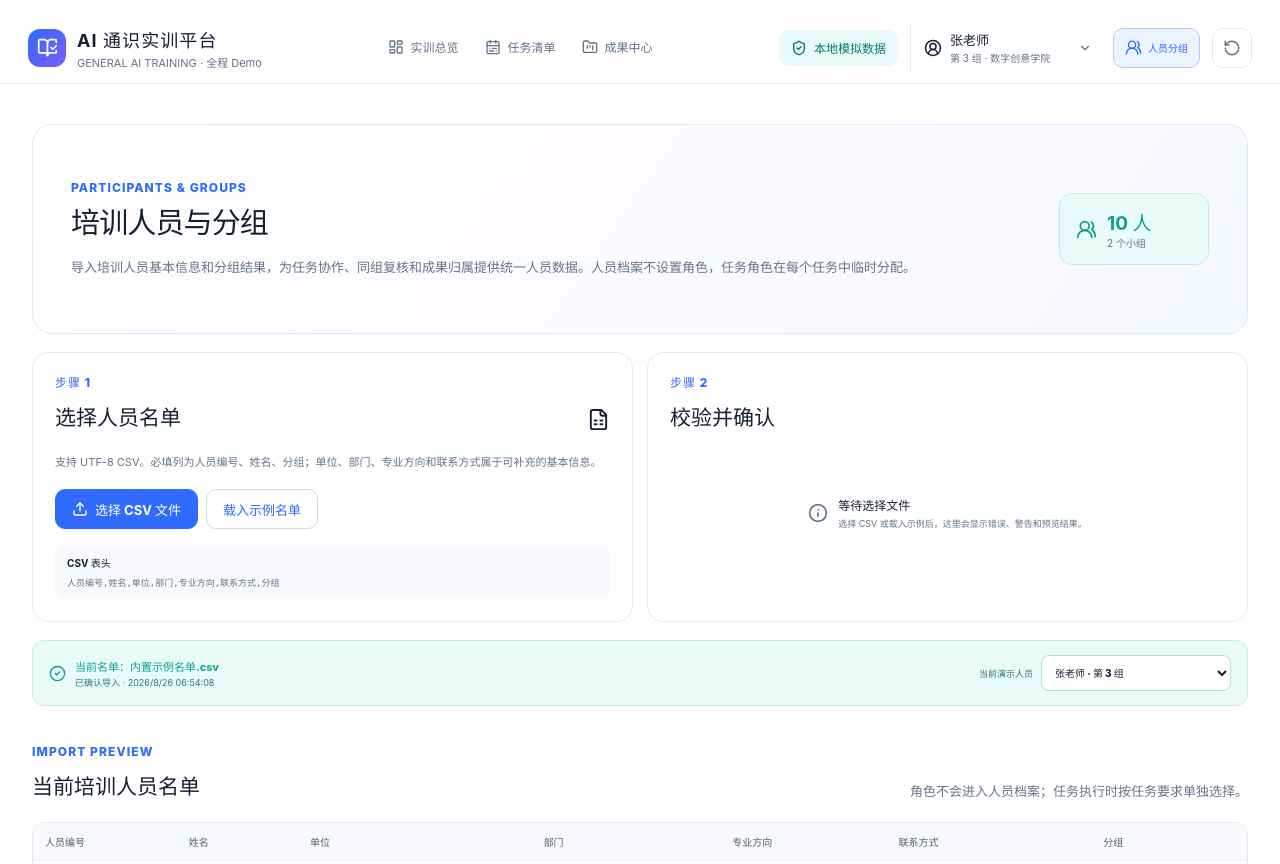
it: AI 通识实训平台 Demo 关键交互 › 切换当前人员后旧复核提交失效并要求重新选择对象
The width and height of the screenshot is (1280, 864).
Select "周老师 · 第 4 组" in the dropdown labelled "当前演示人员" at (1136, 674), box [1041,656,1231,692]
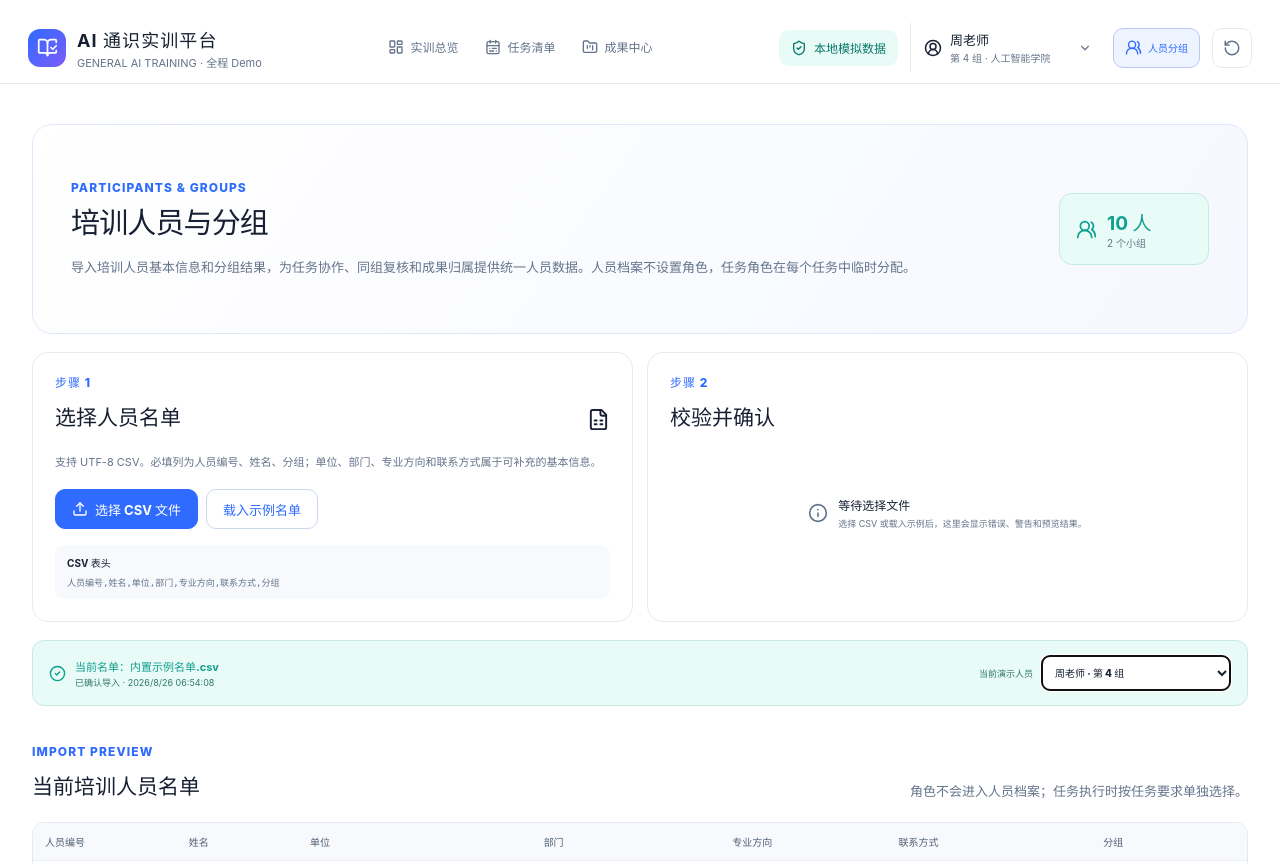
Click the button "任务清单" at (520, 48), box [473,12,567,83]
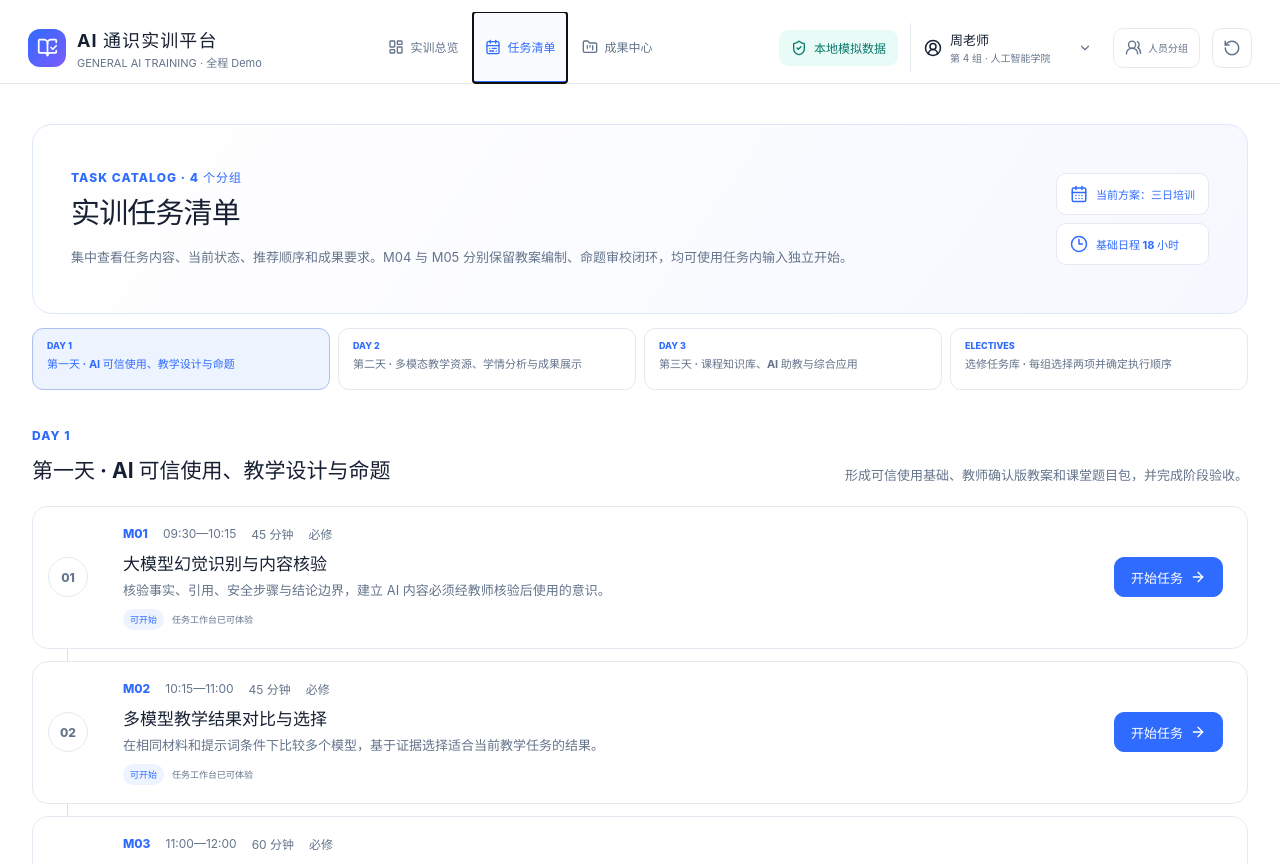
Click the button "DAY 1 第一天 · AI 可信使用、教学设计与命题" at (181, 359), box [32,328,330,390]
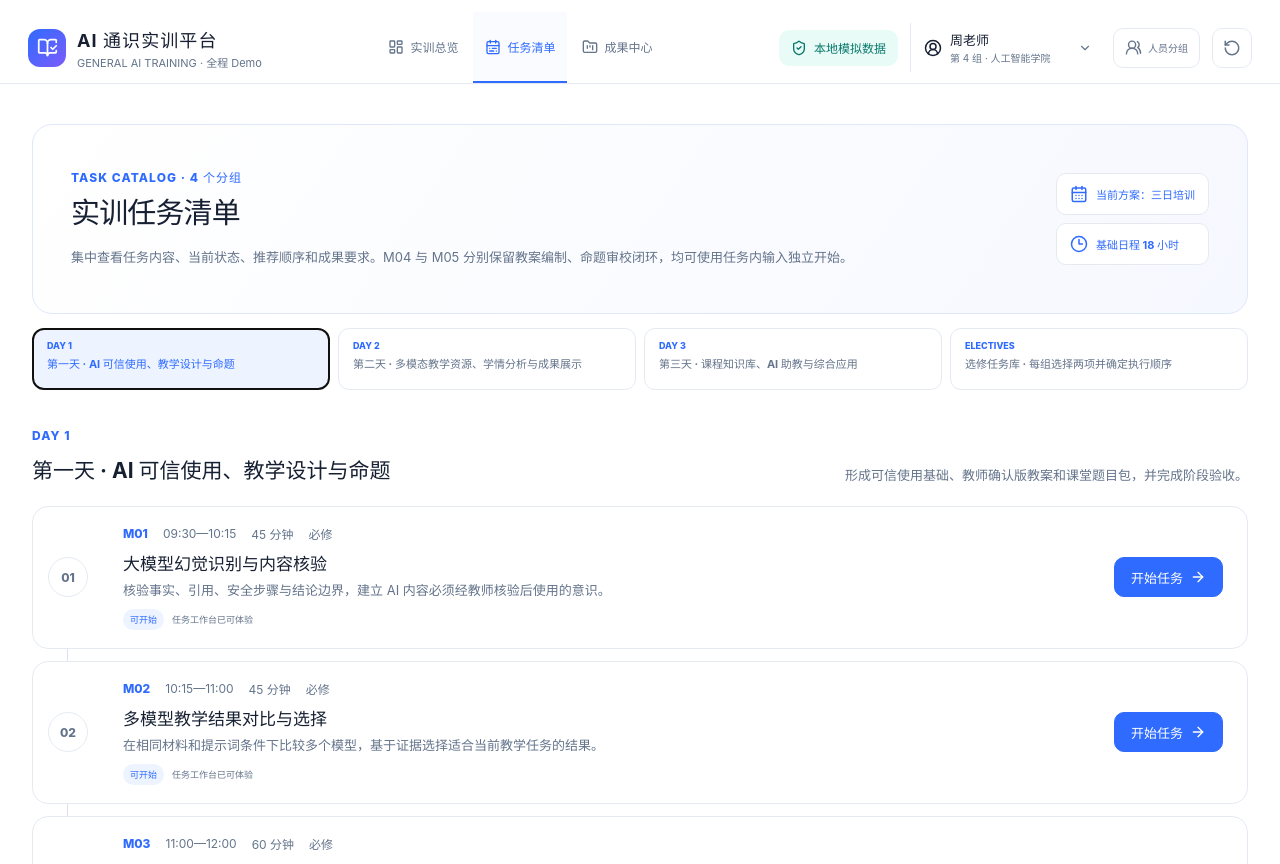
Expected: the text "M01" is shown, [123,526,148,541]
Click the button "开始任务" in the row of "核验事实、引用、安全步骤与结论边界，建立 AI 内容必须经教师核验后使用的意识。" at (1168, 577), box [1114,557,1223,597]
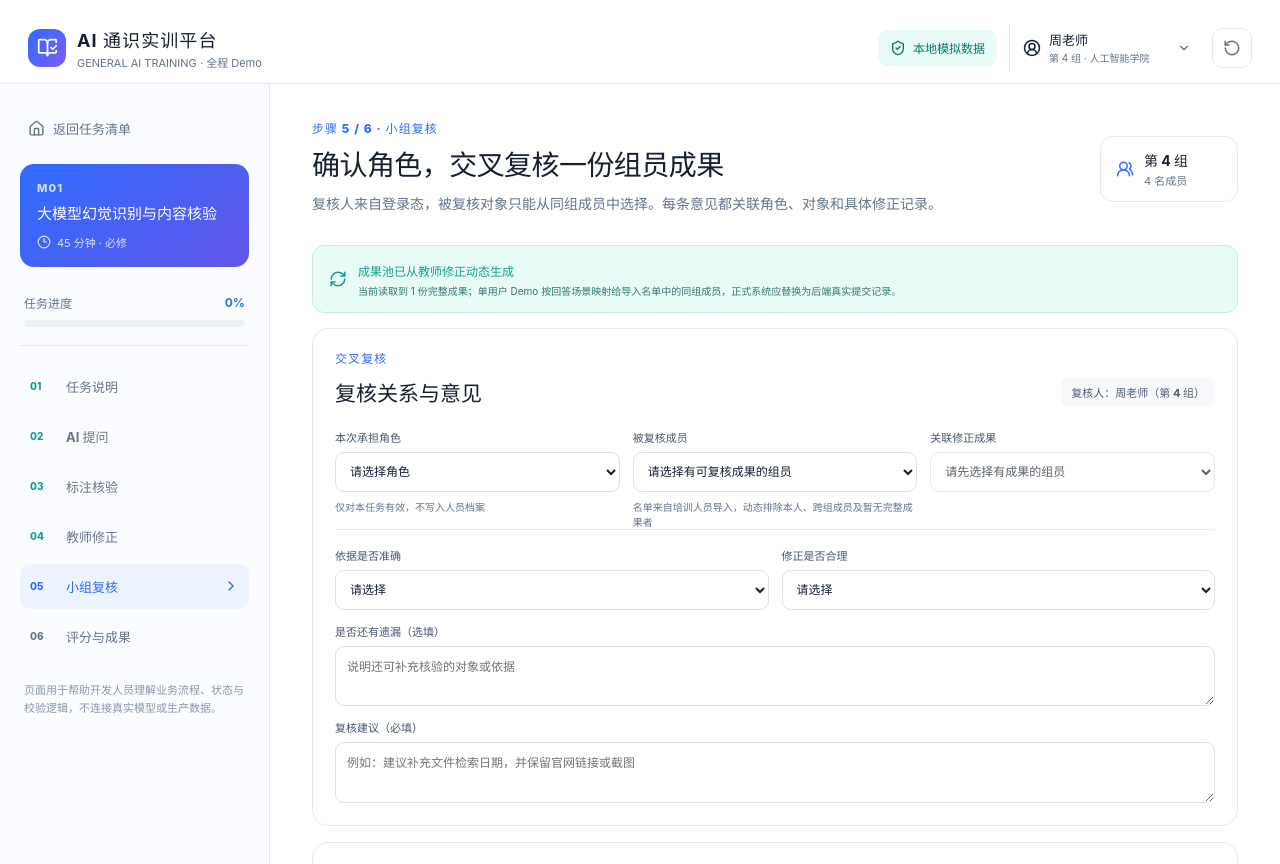
Expected: the heading "确认角色，交叉复核一份组员成果" is shown, [312,148,724,182]
Expected: the dropdown labelled "本次承担角色 仅对本任务有效，不写入人员档案" shows "请选择角色", [335,452,620,492]
Expected: the dropdown labelled "被复核成员 名单来自培训人员导入，动态排除本人、跨组成员及暂无完整成果者" shows "请选择有可复核成果的组员", [633,452,917,492]
